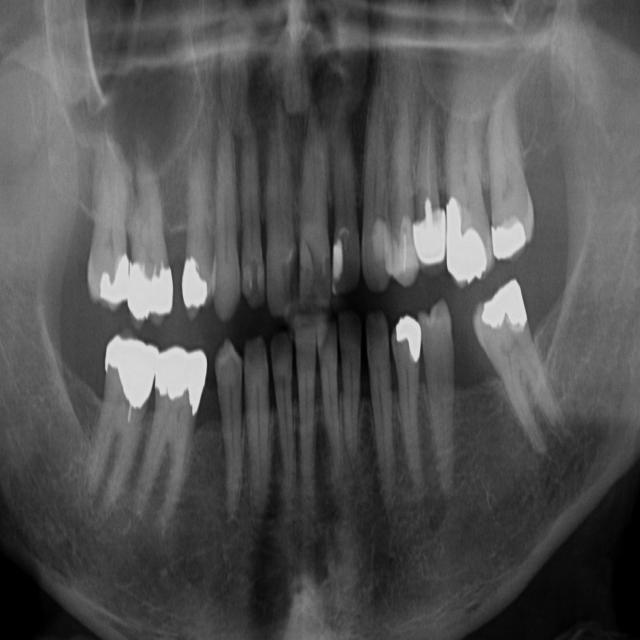dentin-curugu: (307, 253, 328, 300), (344, 238, 362, 286), (281, 257, 299, 300), (248, 262, 262, 294)
dolgu: (474, 281, 524, 338), (488, 208, 536, 253), (94, 256, 130, 306), (180, 258, 213, 308), (393, 313, 424, 362), (329, 237, 350, 283)
kanal-tedavisi: (418, 112, 439, 215)
kaplama: (100, 341, 158, 402), (446, 208, 490, 282), (157, 348, 205, 406), (126, 269, 174, 316), (411, 212, 446, 267)
